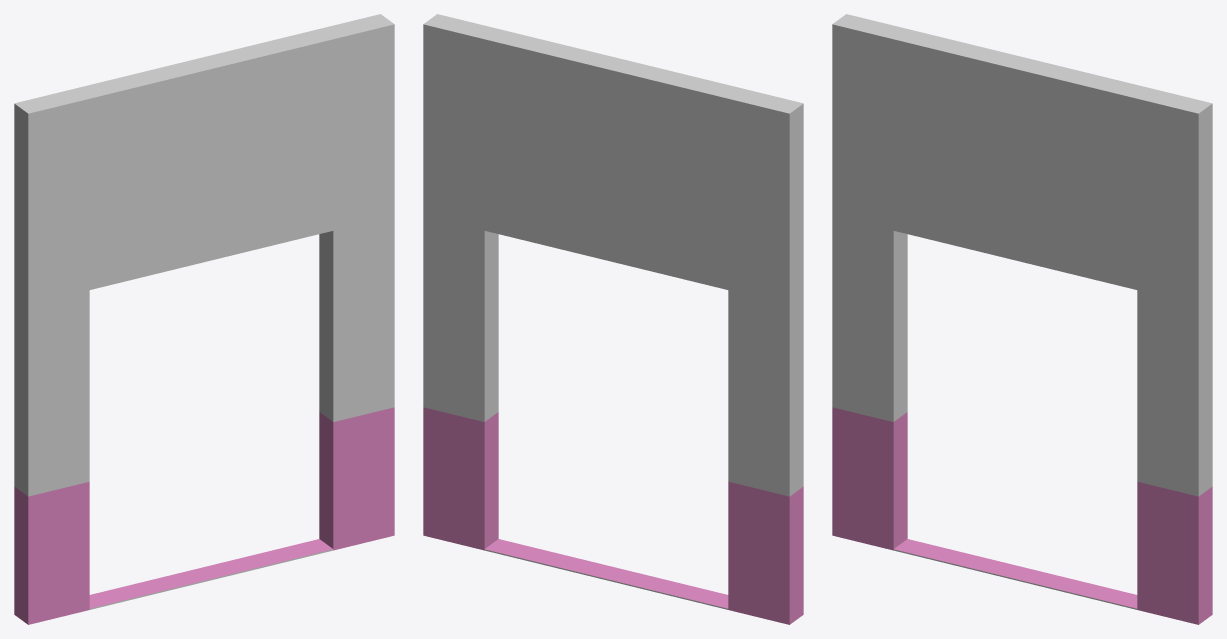
File: WallOffice4.fbx
3 views of the same model, side by side, from view 1: azimuth 30°, elevation 25°; view 2: azimuth 150°, elevation 25°; view 3: azimuth 330°, elevation 25° (orthographic).
Visible parts, largest first — view 1: WallOffice4; view 2: WallOffice4; view 3: WallOffice4.
Part boxes in pixels (x1,y1,x2,y2): WallOffice4: [14, 14, 394, 624]; WallOffice4: [423, 14, 803, 624]; WallOffice4: [832, 14, 1212, 624].
Bounding box in the file's own units: 3 × 4 × 0.2001.
